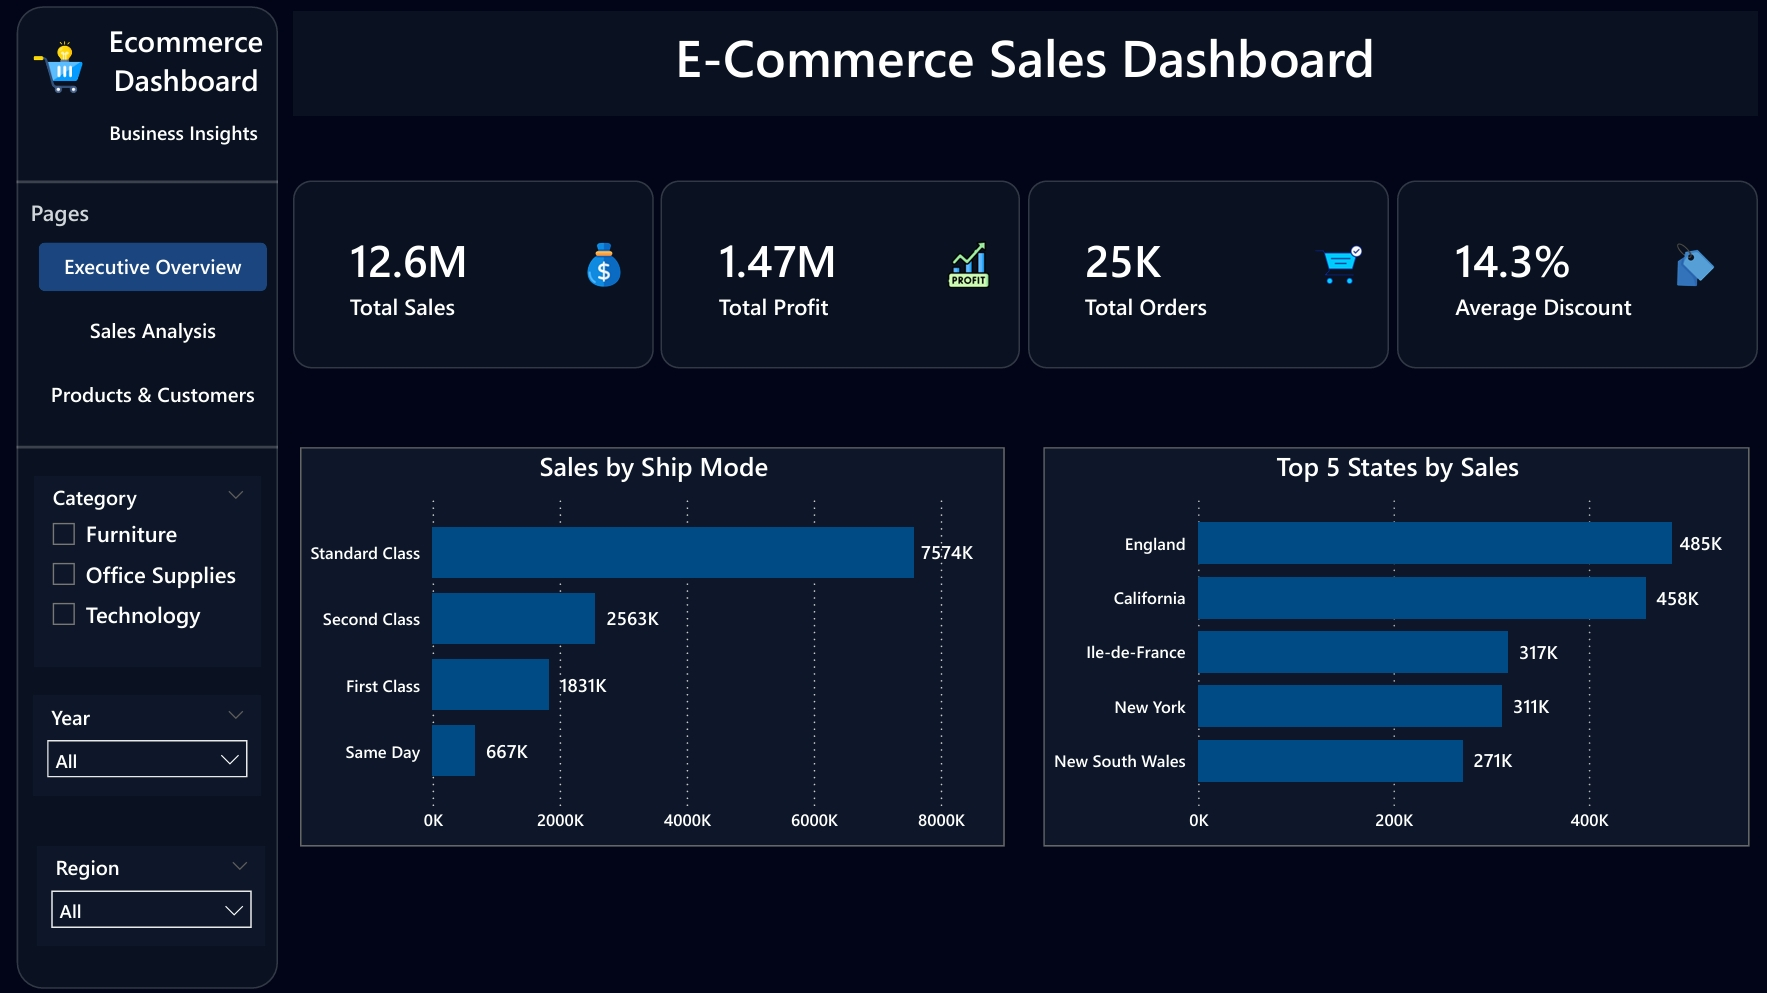

The dashboard page shown, as its layout file describes it:
{"tool":"powerbi","page":{"name":"Executive Overview","canvas":[1280,720],"ordinal":0},"visuals":[{"type":"shape","box":[212.3,9.7,1059.3,76],"z":0},{"type":"textbox","box":[212.3,12.1,1059.3,71.2],"z":1000},{"type":"shape","box":[212.3,131.5,260.6,136.3],"z":2000},{"type":"shape","box":[477.8,131.5,260.6,136.3],"z":3000},{"type":"shape","box":[1011,131.5,260.6,136.3],"z":4000},{"type":"shape","box":[744.4,131.5,260.6,136.3],"z":5000},{"type":"cardVisual","fields":{"Data":["Sales Data.Total Sales"]},"box":[224.4,143.6,235.3,112.2],"z":6000},{"type":"cardVisual","fields":{"Data":["Sales Data.Average Discount"]},"box":[1024.3,143.6,235.3,112.2],"z":7000},{"type":"cardVisual","fields":{"Data":["Sales Data.Total Orders"]},"box":[756.4,143.6,235.3,112.2],"z":8000},{"type":"cardVisual","fields":{"Data":["Sales Data.Total Profit"]},"box":[491,143.6,235.3,112.2],"z":9000},{"type":"image","box":[413.8,176.1,45.8,33.8],"z":10000},{"type":"image","box":[678,176.1,45,33.8],"z":11000},{"type":"image","box":[1204,176.1,45,33.8],"z":12000},{"type":"image","box":[945.8,176.1,45,33.8],"z":13000},{"type":"clusteredBarChart","title":"Top 5 States by Sales","fields":{"Y":["Sum(Sales Data.sales)"],"Category":["Sales Data.state"]},"box":[755.2,324.5,510.3,289.5],"z":14000},{"type":"clusteredBarChart","title":"Sales by Ship Mode","fields":{"Category":["Sales Data.ship_mode"],"Y":["Sum(Sales Data.sales)"]},"box":[217.2,324.5,510.3,289.5],"z":15000},{"type":"shape","box":[12.1,6,189.4,710.6],"z":16000},{"type":"slicer","fields":{"Values":["Sales Data.year"]},"box":[24.1,505.5,165.3,72.4],"z":17000},{"type":"slicer","fields":{"Values":["Sales Data.region"]},"box":[26.5,614.1,165.3,72.4],"z":18000},{"type":"slicer","fields":{"Values":["Sales Data.category"]},"box":[25.3,346.2,164.1,137.5],"z":19000},{"type":"shape","box":[12.1,318.5,189.4,12.1],"z":20000},{"type":"actionButton","box":[27.7,223.2,165.3,35],"z":21000},{"type":"shape","box":[12.1,126.7,189.4,12.1],"z":22000},{"type":"textbox","box":[21.7,138.7,177.3,38.6],"z":23000},{"type":"actionButton","box":[27.7,177.3,165.3,35],"z":24000},{"type":"actionButton","box":[27.7,269,165.3,35],"z":25000},{"type":"textbox","box":[65.1,10.9,138.7,72.4],"z":26000},{"type":"image","box":[21.7,30.2,40,40],"z":27000},{"type":"textbox","box":[73.6,83.2,123.1,29],"z":28000}]}

Visuals, with their boxes in screenshot pixels (x1, y1, x2, y2), scaled from the page's 1280x720 canvas onto the 1767x993 screenshot:
shape: 293/13/1755/118
textbox: 293/17/1755/115
shape: 293/181/653/369
shape: 660/181/1019/369
shape: 1396/181/1755/369
shape: 1028/181/1387/369
cardVisual - Sales Data.Total Sales: 310/198/635/353
cardVisual - Sales Data.Average Discount: 1414/198/1739/353
cardVisual - Sales Data.Total Orders: 1044/198/1369/353
cardVisual - Sales Data.Total Profit: 678/198/1003/353
image: 571/243/634/289
image: 936/243/998/289
image: 1662/243/1724/289
image: 1306/243/1368/289
"Top 5 States by Sales" clusteredBarChart: 1043/448/1747/847
"Sales by Ship Mode" clusteredBarChart: 300/448/1004/847
shape: 17/8/278/988
slicer - Sales Data.year: 33/697/261/797
slicer - Sales Data.region: 37/847/265/947
slicer - Sales Data.category: 35/477/261/667
shape: 17/439/278/456
actionButton: 38/308/266/356
shape: 17/175/278/191
textbox: 30/191/275/245
actionButton: 38/245/266/293
actionButton: 38/371/266/419
textbox: 90/15/281/115
image: 30/42/85/97
textbox: 102/115/272/155
